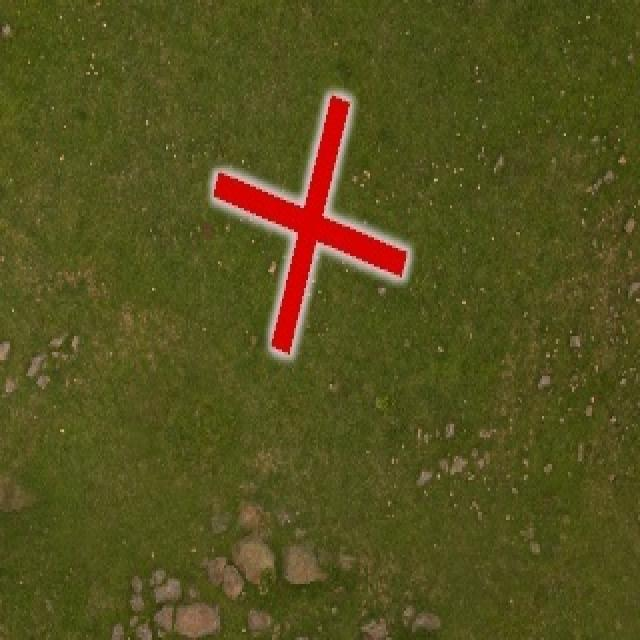x_marker: (213, 95, 407, 353)
